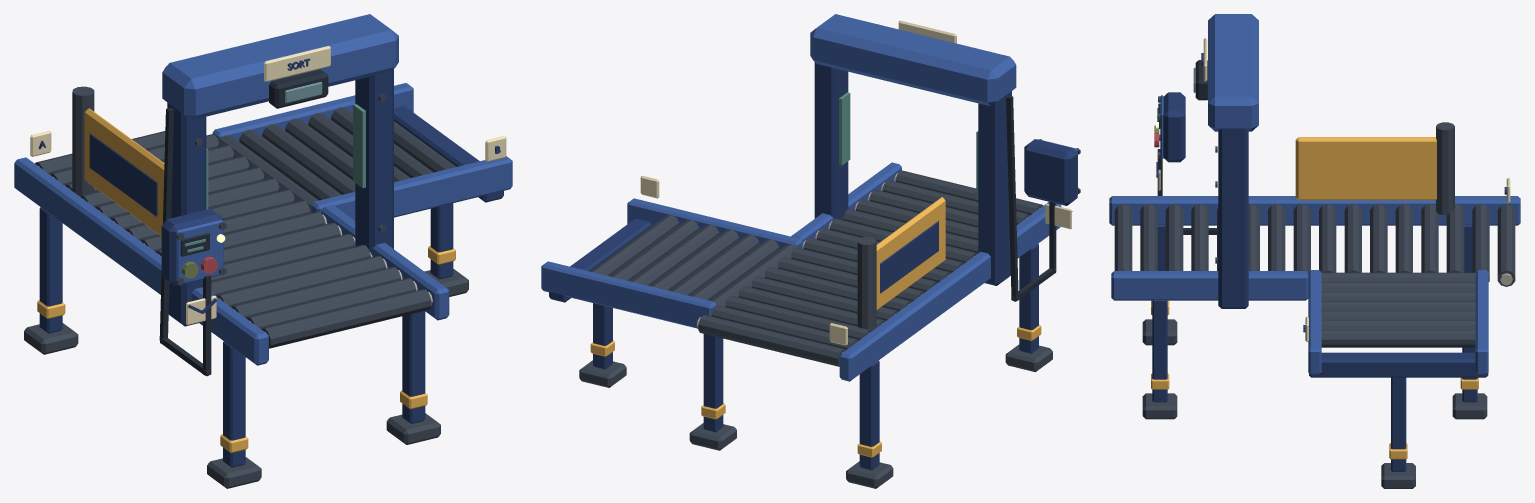
The model's file is mach_address_sorter.glb.
3 renders of one model, left to right at view 1: azimuth 30°, elevation 25°; view 2: azimuth 150°, elevation 25°; view 3: azimuth 270°, elevation 25°, orthographic. The views are drawn at different scales.
Visible parts, largest first — view 1: mach_address_sorter, mach_address_sorter__scanner_head, mach_address_sorter__sorter_main_rail_-1, mach_address_sorter__branch_rail_0.0, mach_address_sorter__scanner_column_-1, mach_address_sorter__diverter_blade, mach_address_sorter__main_roller_00_rubber, mach_address_sorter__sorter_leg_-1_1_stem, mach_address_sorter__main_roller_01_rubber, mach_address_sorter__main_roller_03_rubber, mach_address_sorter__main_roller_02_rubber, mach_address_sorter__diverter_inset (+33 smaller); view 2: mach_address_sorter__scanner_head, mach_address_sorter, mach_address_sorter__sorter_main_rail_-1, mach_address_sorter__scanner_column_-1, mach_address_sorter__branch_rail_0.82, mach_address_sorter__sort_control_housing, mach_address_sorter__diverter_blade, mach_address_sorter__main_roller_15_rubber, mach_address_sorter__branch_rail_0.0, mach_address_sorter__sorter_leg_-1_1_stem, mach_address_sorter__diverter_inset, mach_address_sorter__diverter_axle (+31 smaller); view 3: mach_address_sorter, mach_address_sorter__diverter_blade, mach_address_sorter__scanner_head, mach_address_sorter__sorter_main_rail_-1, mach_address_sorter__branch_support_crossbeam, mach_address_sorter__branch_roller_6_rubber, mach_address_sorter__branch_roller_0_rubber, mach_address_sorter__diverter_axle, mach_address_sorter__sort_control_housing, mach_address_sorter__branch_roller_1_rubber, mach_address_sorter__branch_roller_3_rubber, mach_address_sorter__branch_roller_5_rubber (+26 smaller).
Boxes of the visible parts, x1=… form: mach_address_sorter: x1=159, y1=69, x2=449, y2=376; mach_address_sorter__scanner_head: x1=162, y1=14, x2=398, y2=119; mach_address_sorter__sorter_main_rail_-1: x1=14, y1=157, x2=268, y2=365; mach_address_sorter__branch_rail_0.0: x1=311, y1=156, x2=512, y2=220; mach_address_sorter__scanner_column_-1: x1=167, y1=102, x2=206, y2=326; mach_address_sorter__diverter_blade: x1=84, y1=108, x2=164, y2=235; mach_address_sorter__main_roller_00_rubber: x1=261, y1=289, x2=431, y2=348; mach_address_sorter__sorter_leg_-1_1_stem: x1=39, y1=207, x2=62, y2=333; mach_address_sorter__main_roller_01_rubber: x1=246, y1=278, x2=416, y2=329; mach_address_sorter__main_roller_03_rubber: x1=216, y1=256, x2=385, y2=307; mach_address_sorter__main_roller_02_rubber: x1=231, y1=267, x2=400, y2=318; mach_address_sorter__diverter_inset: x1=89, y1=133, x2=157, y2=216; mach_address_sorter__scanner_head: x1=810, y1=14, x2=1016, y2=106; mach_address_sorter: x1=696, y1=62, x2=1080, y2=328; mach_address_sorter__sorter_main_rail_-1: x1=839, y1=202, x2=1061, y2=381; mach_address_sorter__scanner_column_-1: x1=978, y1=91, x2=1011, y2=285; mach_address_sorter__branch_rail_0.82: x1=541, y1=261, x2=716, y2=328; mach_address_sorter__sort_control_housing: x1=1024, y1=139, x2=1077, y2=205; mach_address_sorter__diverter_blade: x1=876, y1=197, x2=945, y2=309; mach_address_sorter__main_roller_15_rubber: x1=698, y1=315, x2=845, y2=366; mach_address_sorter__branch_rail_0.0: x1=627, y1=198, x2=802, y2=249; mach_address_sorter__sorter_leg_-1_1_stem: x1=859, y1=360, x2=879, y2=470; mach_address_sorter__diverter_inset: x1=880, y1=221, x2=938, y2=293; mach_address_sorter__diverter_axle: x1=857, y1=237, x2=876, y2=330; mach_address_sorter: x1=1111, y1=96, x2=1512, y2=308; mach_address_sorter__diverter_blade: x1=1295, y1=137, x2=1436, y2=200; mach_address_sorter__scanner_head: x1=1208, y1=14, x2=1258, y2=131; mach_address_sorter__sorter_main_rail_-1: x1=1109, y1=196, x2=1520, y2=225; mach_address_sorter__branch_support_crossbeam: x1=1309, y1=352, x2=1488, y2=377; mach_address_sorter__branch_roller_6_rubber: x1=1321, y1=329, x2=1475, y2=347; mach_address_sorter__branch_roller_0_rubber: x1=1321, y1=272, x2=1475, y2=282; mach_address_sorter__diverter_axle: x1=1436, y1=122, x2=1454, y2=214; mach_address_sorter__sort_control_housing: x1=1163, y1=92, x2=1185, y2=162; mach_address_sorter__branch_roller_1_rubber: x1=1321, y1=282, x2=1475, y2=291; mach_address_sorter__branch_roller_3_rubber: x1=1321, y1=301, x2=1475, y2=310; mach_address_sorter__branch_roller_5_rubber: x1=1321, y1=320, x2=1475, y2=329.
Size of the model in its own units: 2.05 by 1.76 by 2.02.
